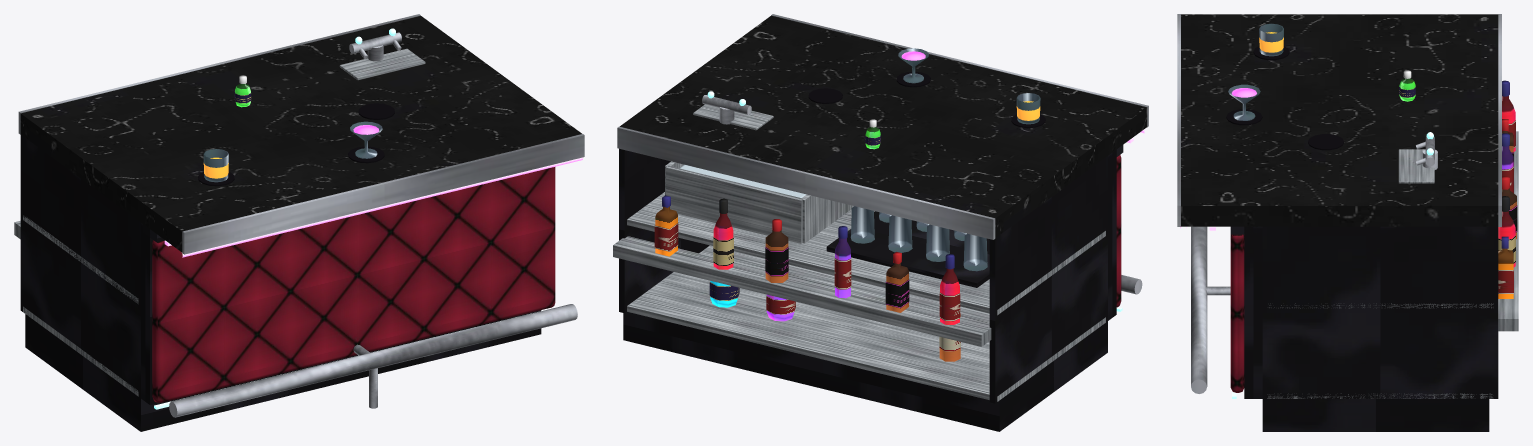
The model's file is prop_barCounter.glb.
The picture shows the model from 3 angles, left to right: view 1: azimuth 30°, elevation 25°; view 2: azimuth 150°, elevation 25°; view 3: azimuth 270°, elevation 25°; orthographic projection. The views are drawn at different scales.
Visible parts, largest first — view 1: prop; view 2: prop; view 3: prop.
Part boxes in pixels (left/top/right/bottom): prop: left=14, top=14, right=584, bottom=431; prop: left=613, top=14, right=1148, bottom=431; prop: left=1177, top=14, right=1518, bottom=431.
Size of what is drawn, in the model's own units: 1 by 0.6165 by 0.753.
Materials: 14 (7 with a texture image).
